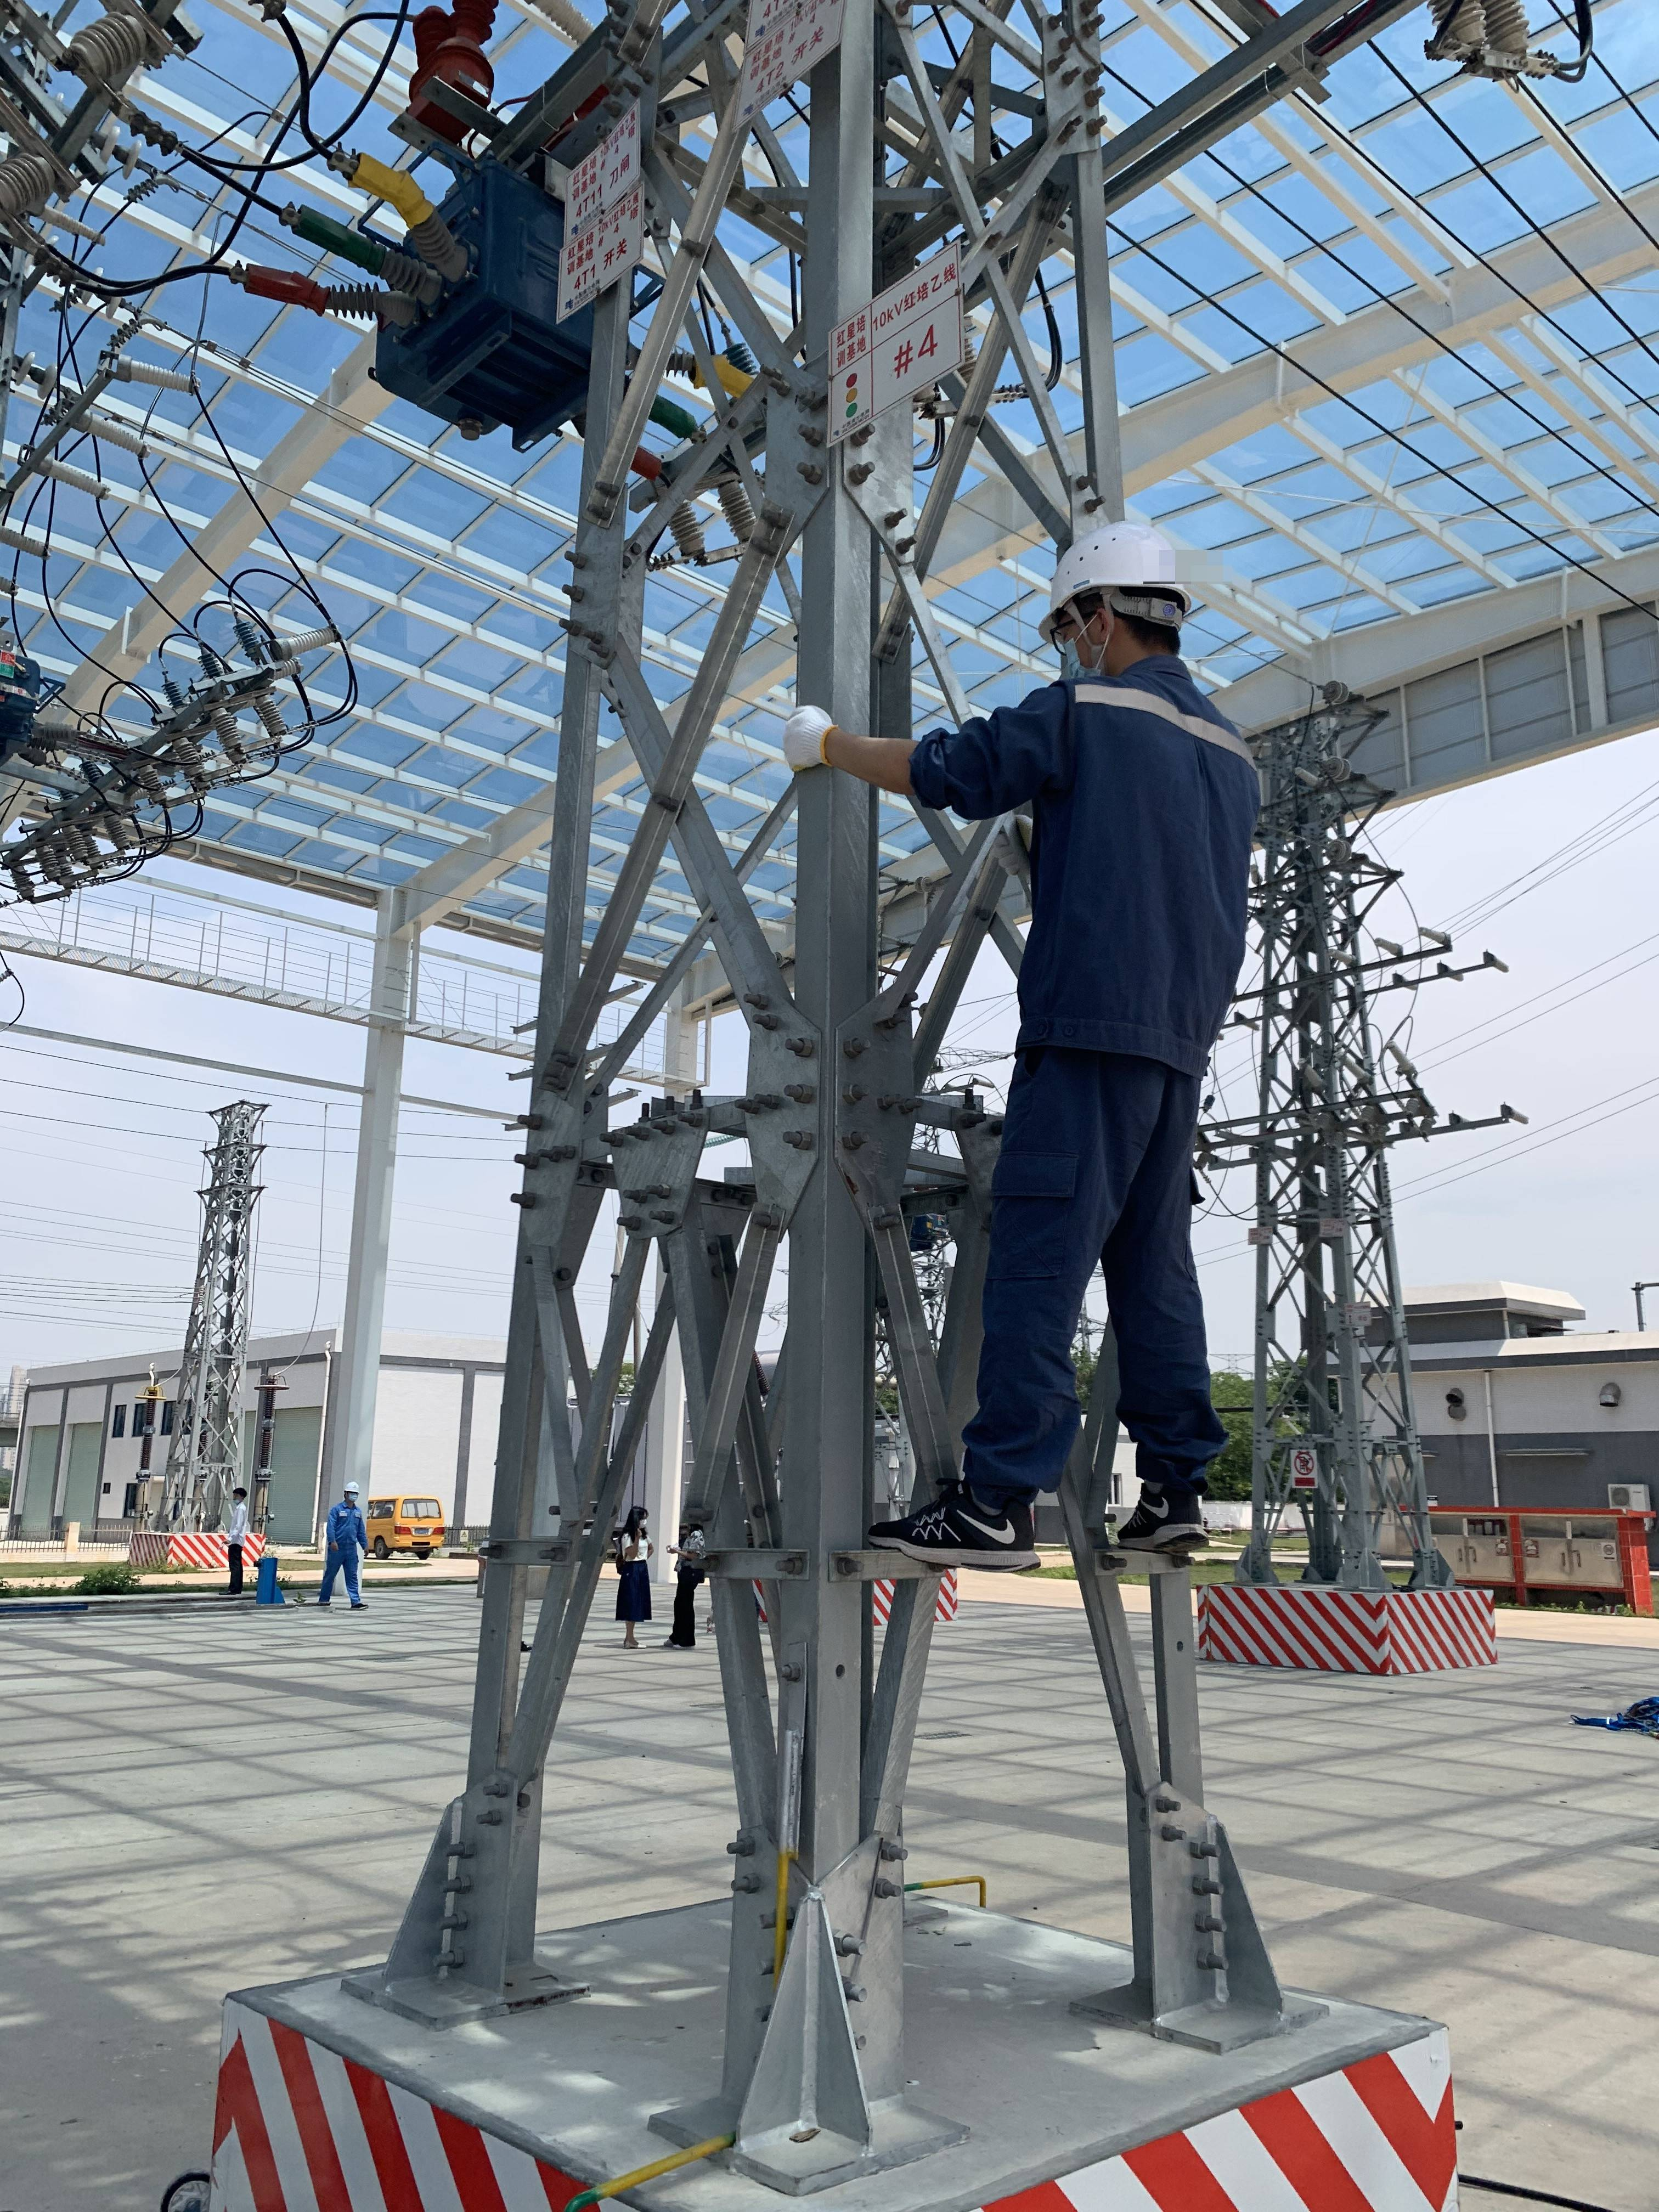downsuit: (953, 1080, 1225, 1496)
upsuit: (903, 665, 1270, 1059)
wrongtop: (796, 705, 934, 806)
